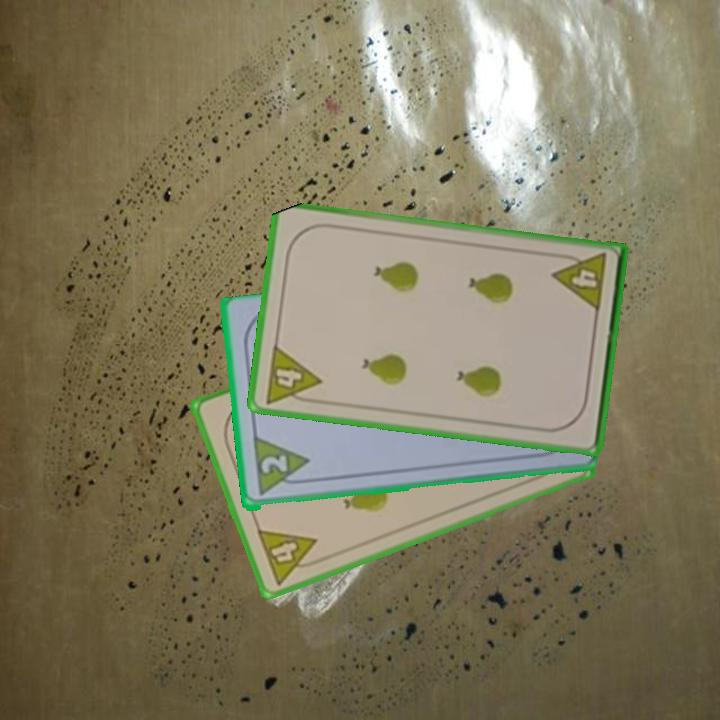2p: (249, 435, 313, 500)
4p: (253, 525, 327, 588), (261, 341, 324, 407), (549, 250, 609, 315)
